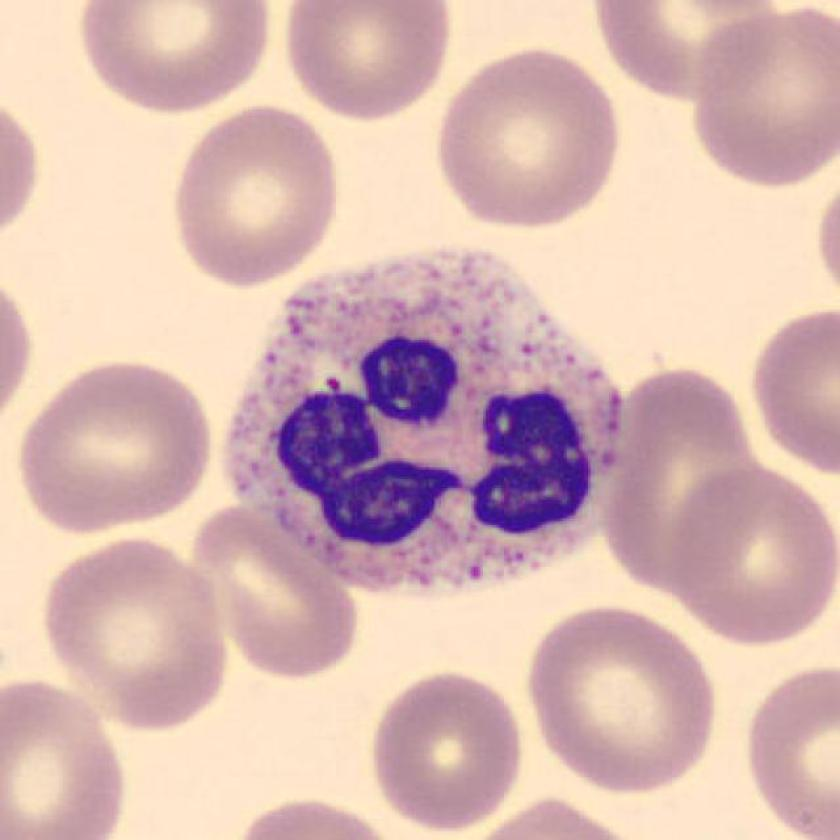neutrophil: (219, 248, 626, 594)
